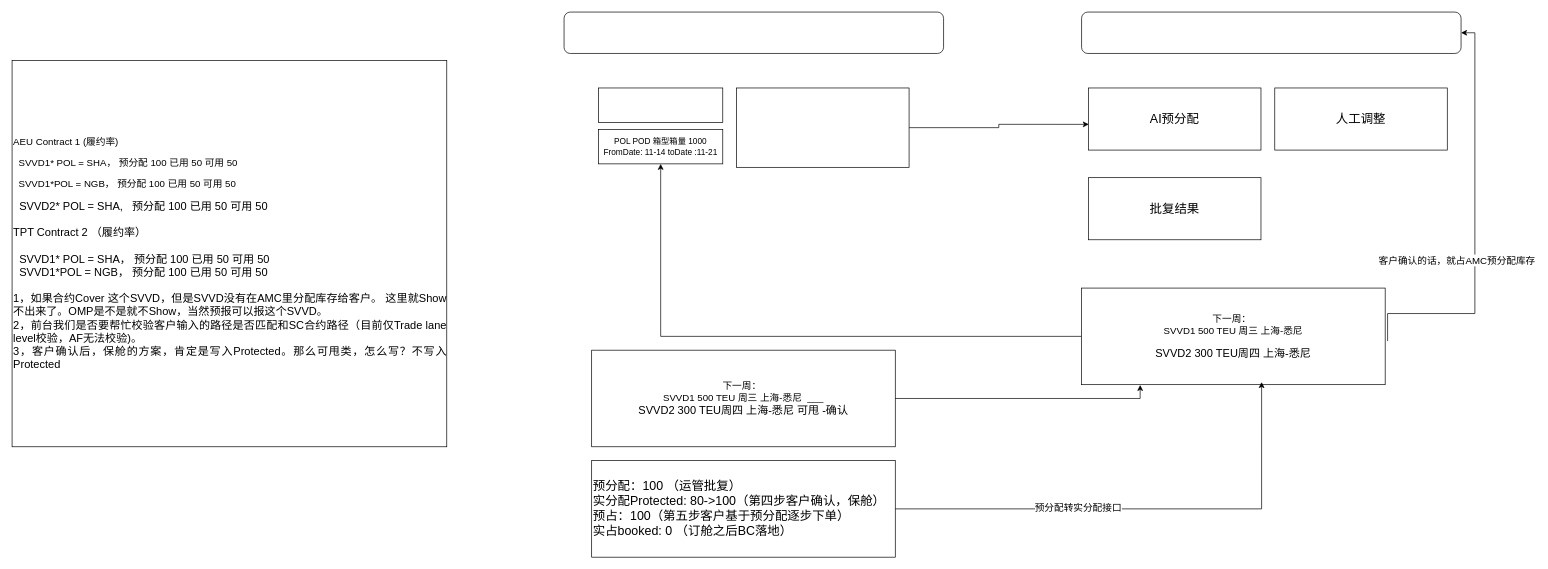
Some shapes in this 1548 by 569 pixel diagram are drawn without their labels. Here are the shapes that lost their labels. From the top down, the centre of each, then its label:
point 753,32: OMP
point 1271,32: AMC
point 660,104: POL POD 箱型箱量 AEU3 CNF 038 E
point 822,127: 请求
